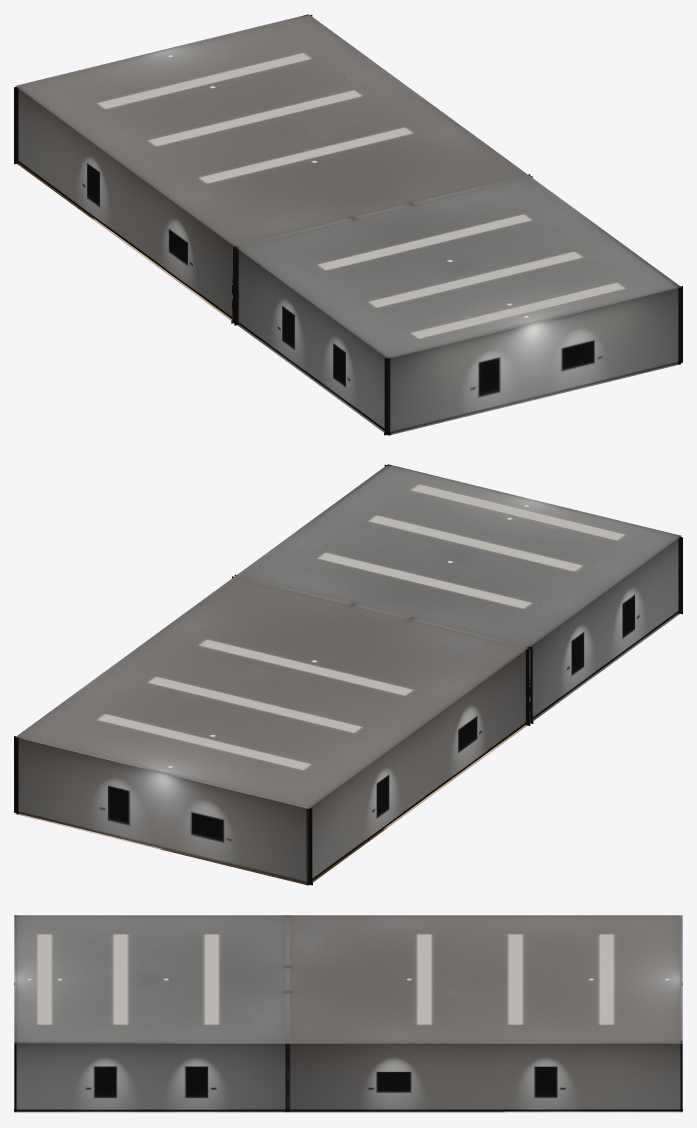
The model's file is gallery-baked-room-v4b.glb.
3 renders of one model, top to bottom at view 1: azimuth 30°, elevation 25°; view 2: azimuth 150°, elevation 25°; view 3: azimuth 270°, elevation 25°, orthographic. The views are drawn at different scales.
Visible parts, largest first — view 1: Ceiling, Walls_Room2, Walls_Room1, Floor_Room2; view 2: Ceiling, Walls_Room1, Walls_Room2, Floor_Room1; view 3: Ceiling, Walls_Room1, Walls_Room2, Floor_Room1, Floor_Room2.
Part boxes in pixels (x1=…): Ceiling: x1=15, y1=14, x2=681, y2=358; Walls_Room2: x1=239, y1=250, x2=682, y2=435; Walls_Room1: x1=14, y1=14, x2=532, y2=323; Floor_Room2: x1=237, y1=324, x2=681, y2=435; Ceiling: x1=15, y1=464, x2=681, y2=808; Walls_Room1: x1=14, y1=574, x2=532, y2=885; Walls_Room2: x1=384, y1=464, x2=682, y2=719; Floor_Room1: x1=15, y1=725, x2=527, y2=885; Ceiling: x1=14, y1=915, x2=682, y2=1043; Walls_Room1: x1=287, y1=1043, x2=682, y2=1111; Walls_Room2: x1=14, y1=1043, x2=287, y2=1111; Floor_Room1: x1=288, y1=1111, x2=682, y2=1112; Floor_Room2: x1=14, y1=1111, x2=287, y2=1112.
Size of the model in its own units: 20.35 by 5.01 by 44.05.
Materials: 11 (8 with a texture image).
